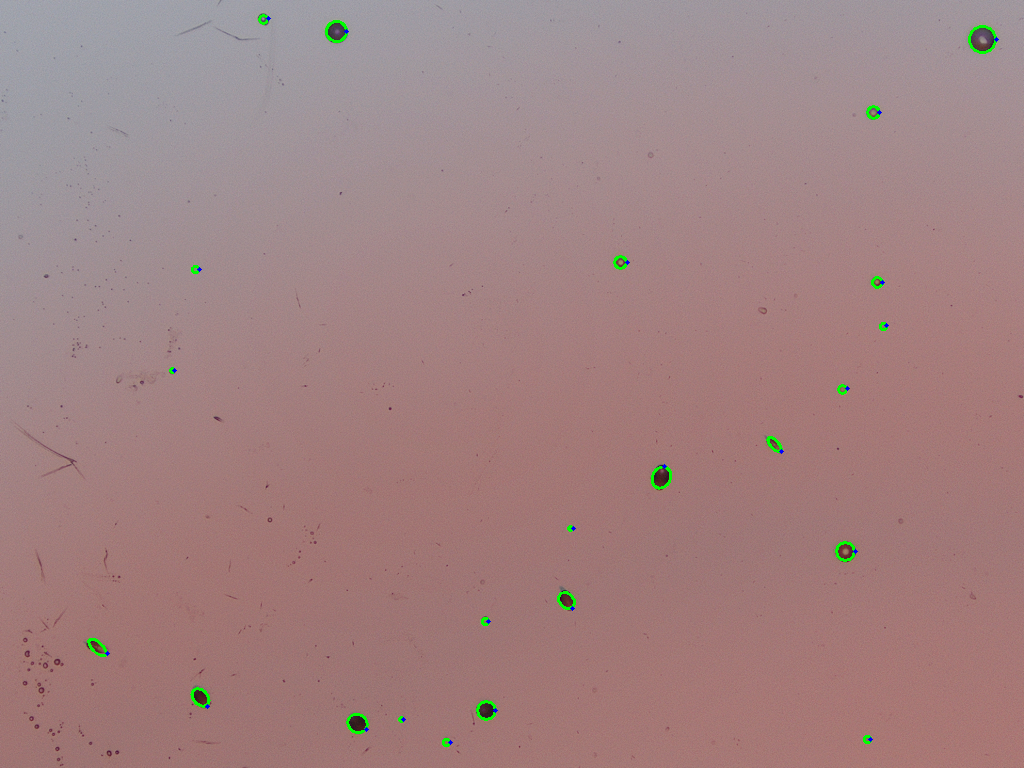circle: (969, 25, 996, 52), (325, 21, 346, 42), (836, 541, 855, 561), (476, 700, 495, 719), (614, 255, 627, 268), (867, 106, 879, 118), (871, 276, 882, 287), (258, 14, 268, 23), (838, 384, 847, 393), (443, 738, 450, 746), (192, 266, 199, 273), (481, 617, 488, 624), (880, 322, 886, 329), (864, 736, 870, 743), (568, 525, 573, 530), (169, 368, 174, 373), (399, 717, 403, 721)
ellipse: (347, 713, 367, 733), (559, 589, 574, 610), (766, 436, 783, 453), (86, 640, 108, 653)
